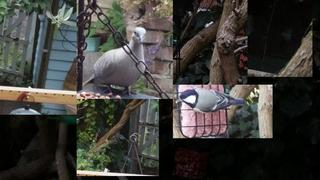collared dove: (83, 27, 146, 96)
great tit: (175, 88, 246, 113)
